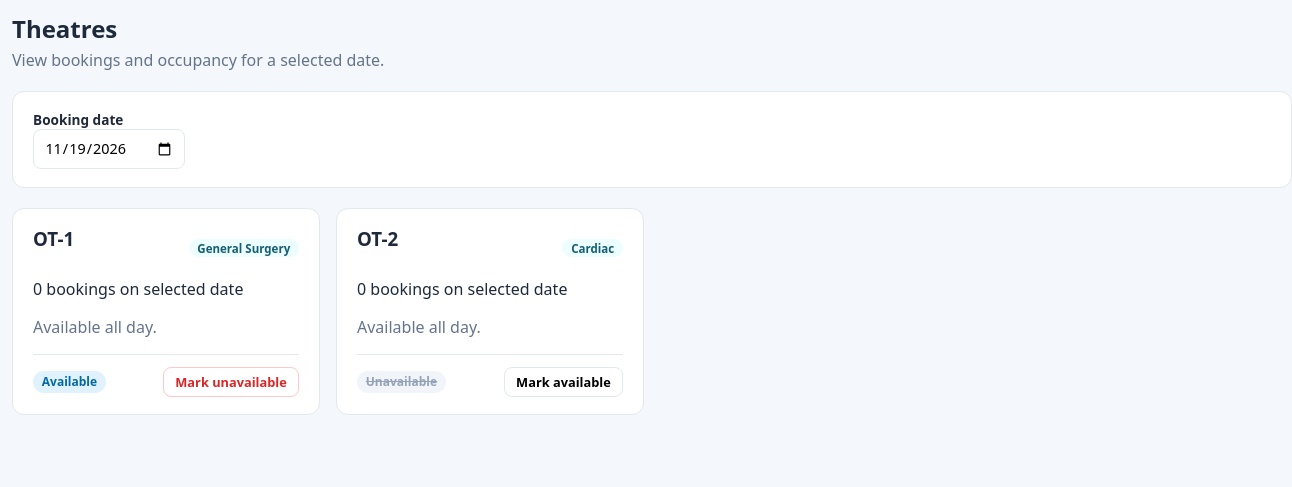
Test: TheatresPage › shows an error when toggling fails
Click the button "Mark unavailable".
click(231, 382)  # box [163,367,299,397]
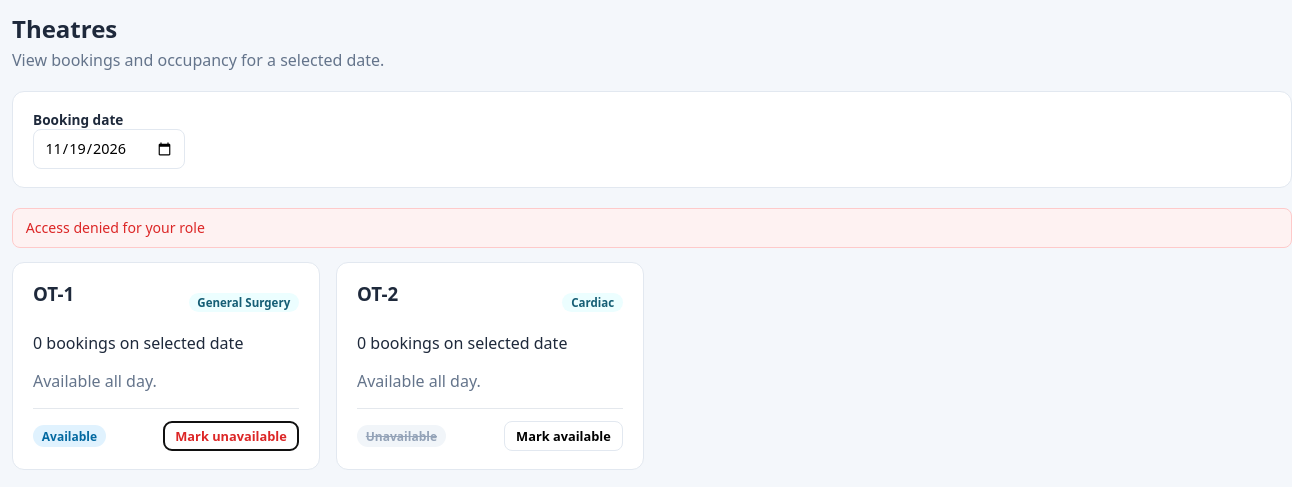
Expected: the message reads "Access denied for your role", [26,218,205,237]
